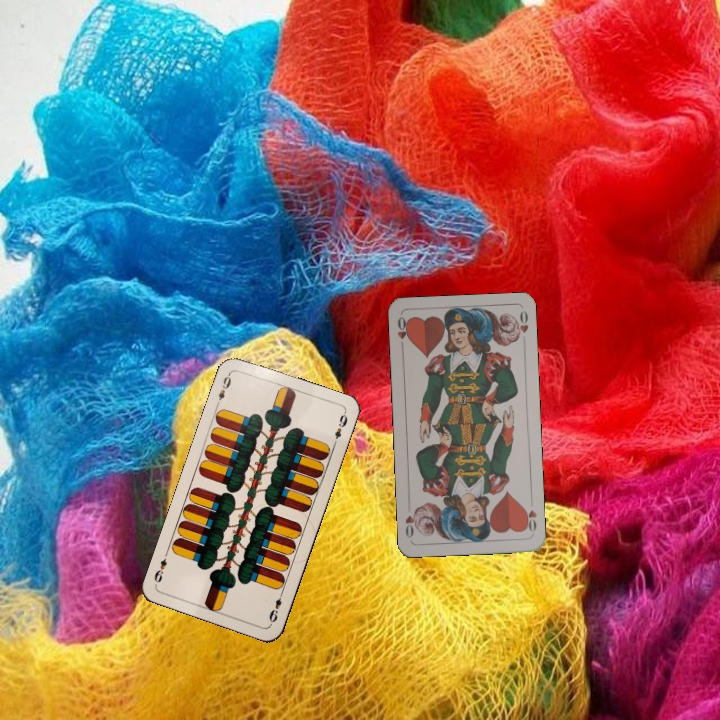E9: (213, 369, 234, 408), (265, 587, 286, 625)
HO: (393, 313, 412, 353), (520, 503, 539, 535)
